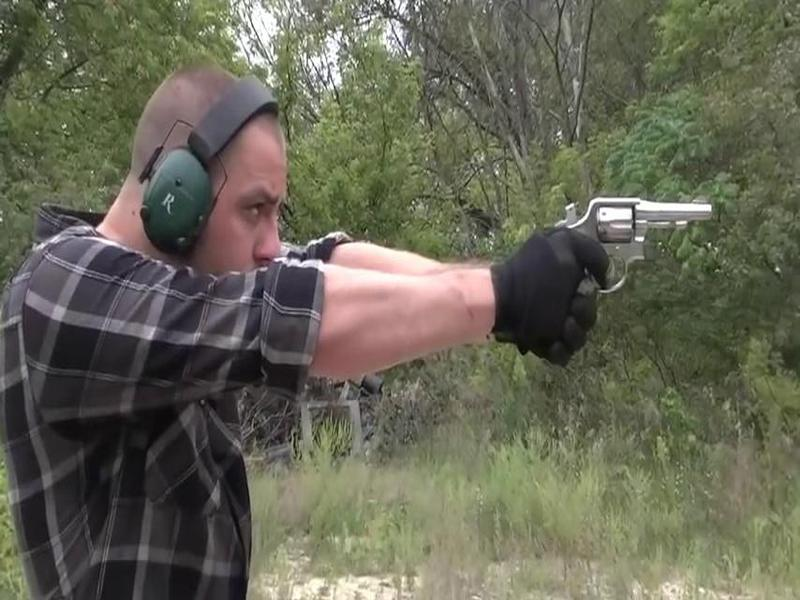Revolver: (542, 177, 715, 298)
